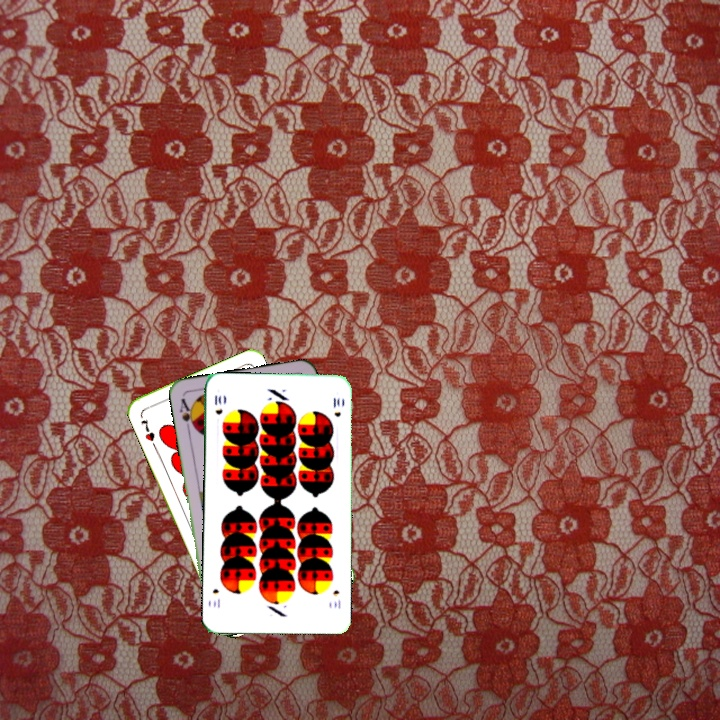H7: (137, 415, 157, 444)
S10: (211, 391, 225, 417), (329, 586, 343, 611)
SA: (175, 394, 198, 434)
